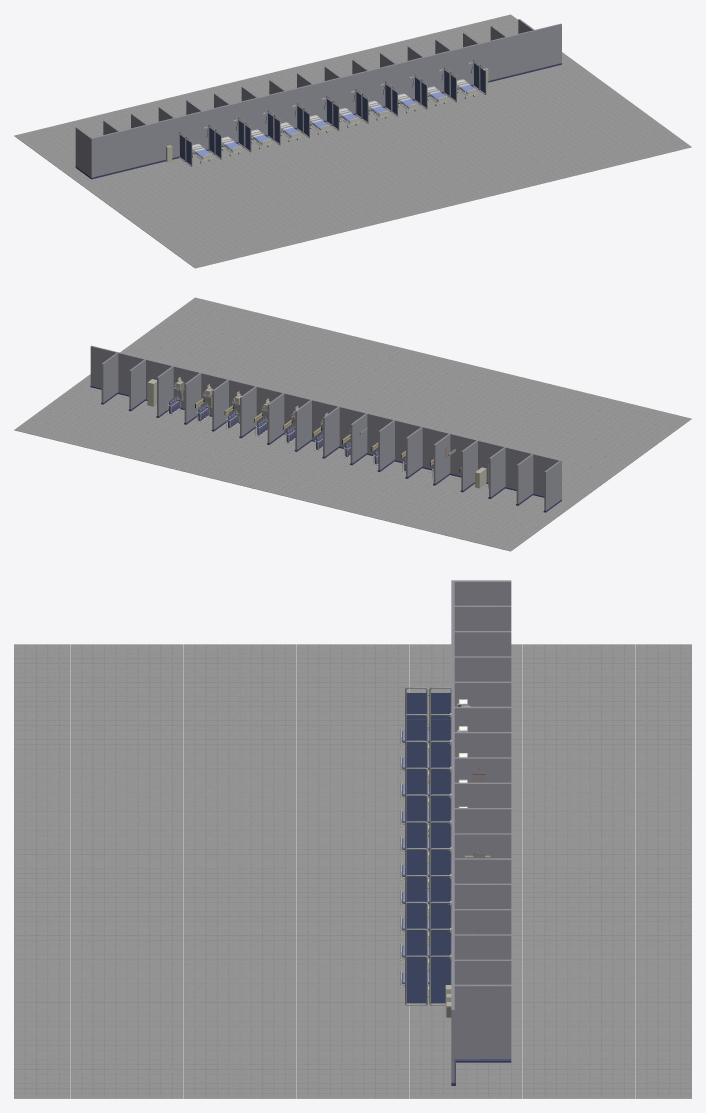
The model's file is er_room.glb.
3 views of the same model, one above another, from view 1: azimuth 30°, elevation 25°; view 2: azimuth 150°, elevation 25°; view 3: azimuth 270°, elevation 25° (orthographic). The views are drawn at different scales.
Visible parts, largest first — view 1: wall_back_0, wall_back_15, wall_back_16, wall_back_1, wall_back_2, wall_back_14, wall_back_3, wall_back_6, wall_back_12, wall_back_9, wall_back_13, wall_back_11 (+140 smaller); view 2: wall_back_1, wall_back_16, wall_back_0, wall_back_4, wall_back_15, wall_back_5, wall_back_7, wall_back_6, wall_back_3, wall_back_8, wall_back_10, wall_back_2 (+160 smaller); view 3: wall_back_16, screen_B5, wall_back_0, wall_back_3, wall_back_11, wall_back_14, wall_back_1, wall_back_2, wall_back_9, wall_back_12, wall_back_13, wall_back_15 (+214 smaller).
Boxes of the visible parts, bbox=[...] form: wall_back_0: bbox=[75, 127, 119, 179]; wall_back_15: bbox=[490, 25, 534, 77]; wall_back_16: bbox=[518, 19, 561, 71]; wall_back_1: bbox=[103, 120, 146, 172]; wall_back_2: bbox=[131, 113, 174, 165]; wall_back_14: bbox=[463, 32, 506, 82]; wall_back_3: bbox=[158, 106, 202, 158]; wall_back_6: bbox=[241, 86, 285, 136]; wall_back_12: bbox=[407, 46, 451, 96]; wall_back_9: bbox=[324, 66, 368, 115]; wall_back_13: bbox=[435, 39, 478, 89]; wall_back_11: bbox=[380, 52, 423, 104]; wall_back_1: bbox=[505, 447, 533, 505]; wall_back_16: bbox=[90, 345, 118, 404]; wall_back_0: bbox=[533, 453, 561, 512]; wall_back_4: bbox=[422, 426, 450, 485]; wall_back_15: bbox=[118, 352, 146, 411]; wall_back_5: bbox=[394, 420, 422, 478]; wall_back_7: bbox=[339, 406, 367, 465]; wall_back_6: bbox=[367, 413, 395, 471]; wall_back_3: bbox=[450, 433, 478, 492]; wall_back_8: bbox=[311, 399, 339, 458]; wall_back_10: bbox=[256, 386, 284, 444]; wall_back_2: bbox=[478, 440, 505, 498]; wall_back_16: bbox=[451, 984, 511, 1085]; screen_B5: bbox=[405, 955, 451, 1005]; wall_back_0: bbox=[451, 580, 511, 605]; wall_back_3: bbox=[451, 656, 511, 681]; wall_back_11: bbox=[451, 858, 511, 883]; wall_back_14: bbox=[451, 934, 511, 959]; wall_back_1: bbox=[451, 605, 511, 630]; wall_back_2: bbox=[451, 631, 511, 656]; wall_back_9: bbox=[451, 808, 511, 833]; wall_back_12: bbox=[451, 883, 511, 908]; wall_back_13: bbox=[451, 909, 511, 934]; wall_back_15: bbox=[451, 959, 511, 984].
Bounding box in the file's own units: 43.95 × 3.45 × 27.75.
Materials: 15 (10 with a texture image).
